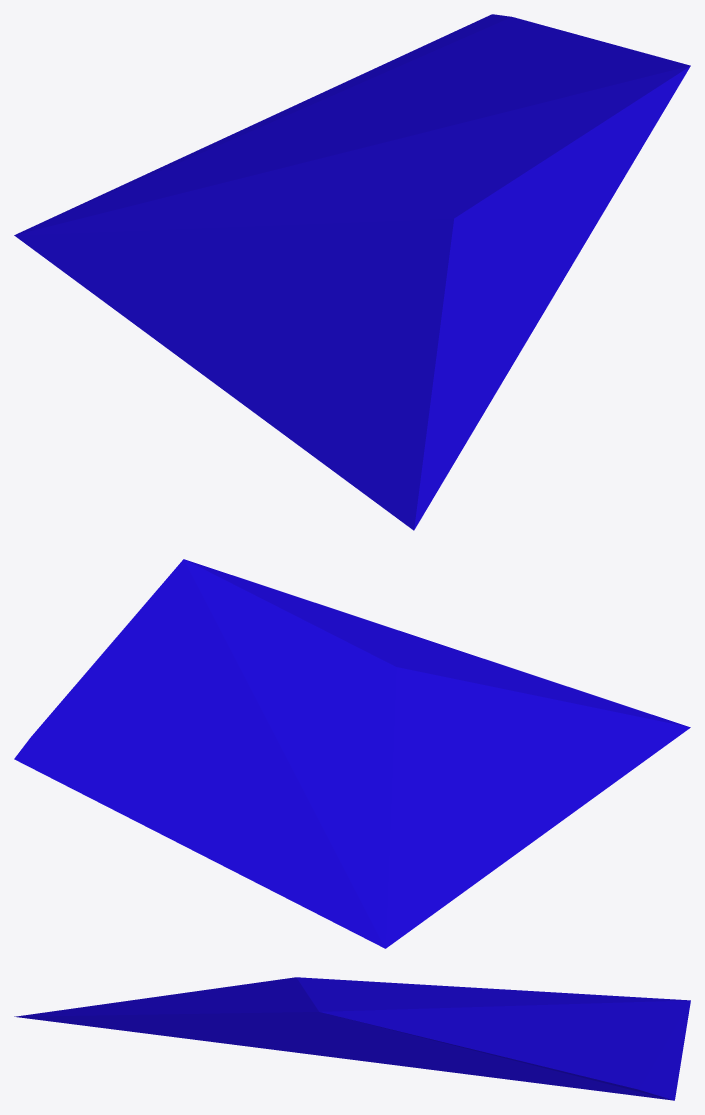
Rendered from torso_convex_piece_031.obj.
3 renders of one model, top to bottom at view 1: azimuth 30°, elevation 25°; view 2: azimuth 150°, elevation 25°; view 3: azimuth 270°, elevation 25°, orthographic. The views are drawn at different scales.
Bounding box in the file's own units: 0.0662 × 0.0305 × 0.095.
